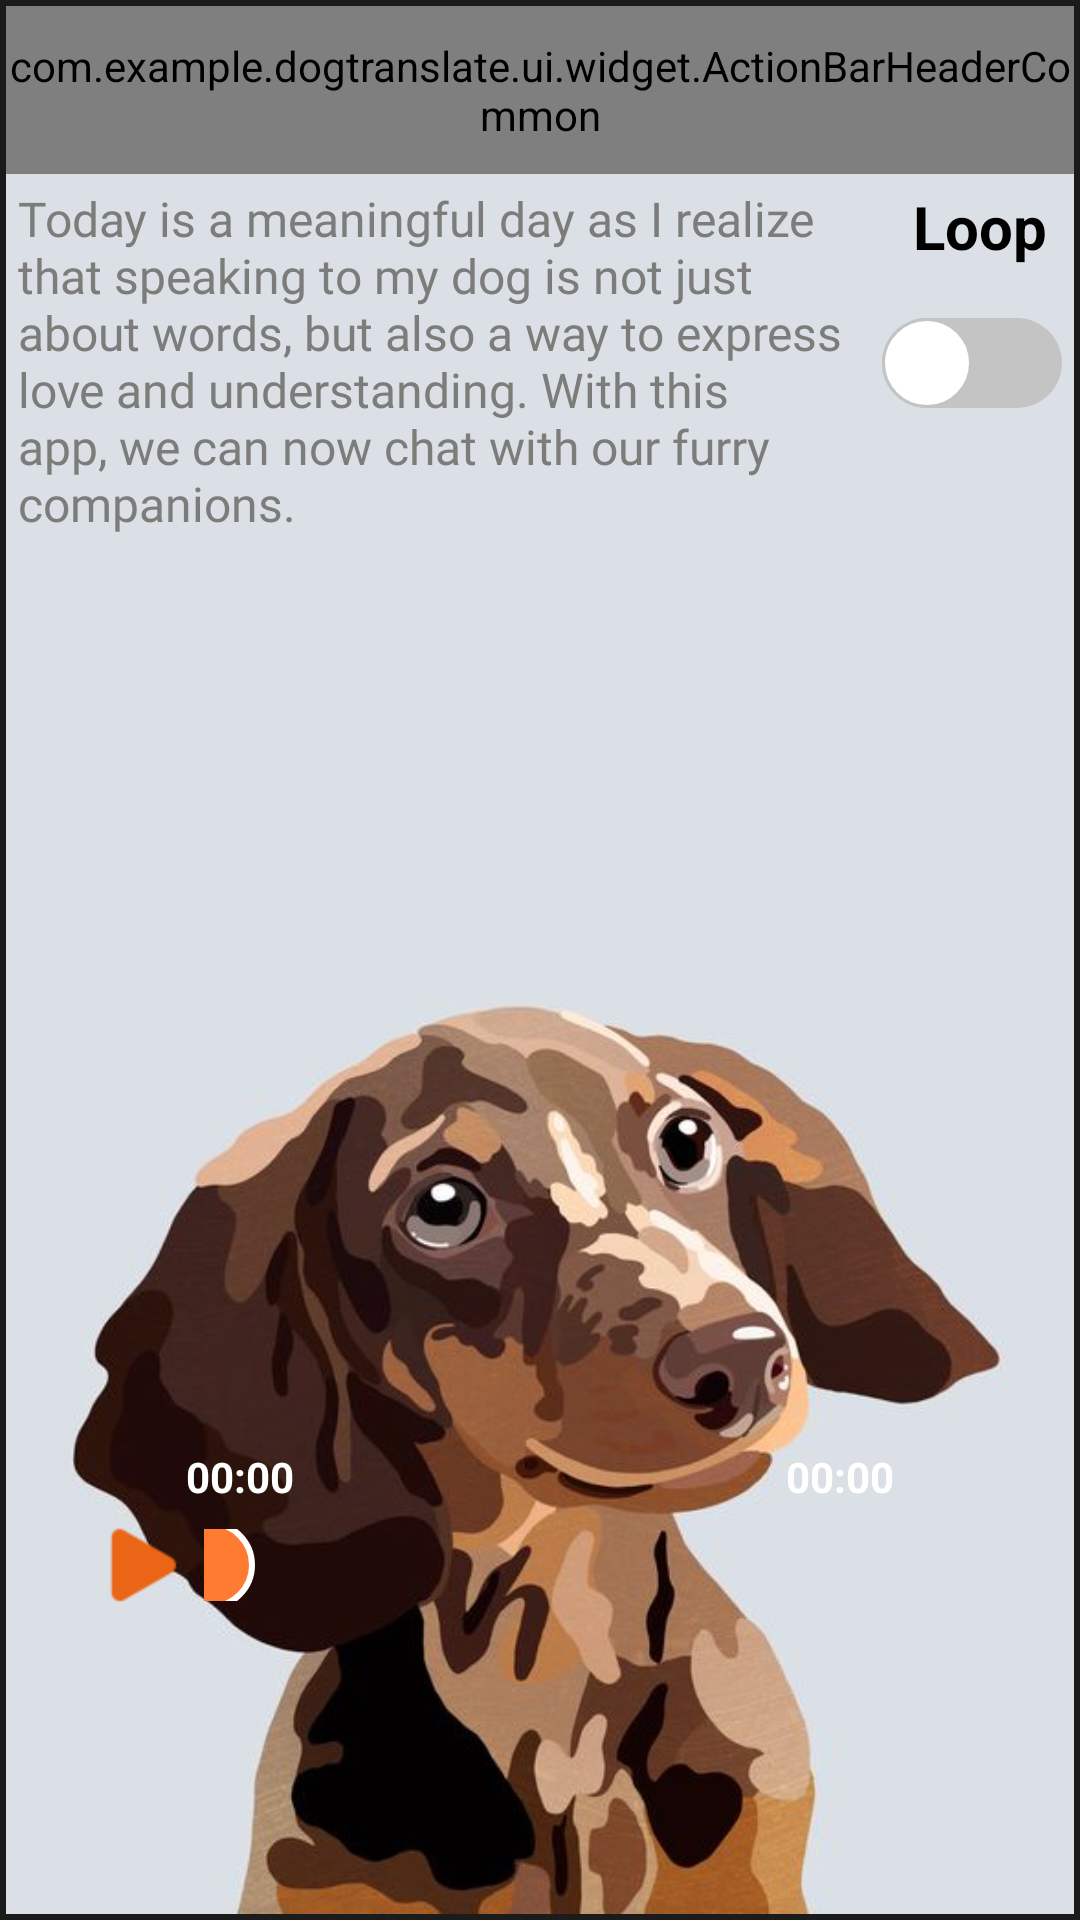

Where icons sit on this 1080x1920 app screen, as (x1,y1,x2,y2):
play sound: (110,1505,204,1602)
